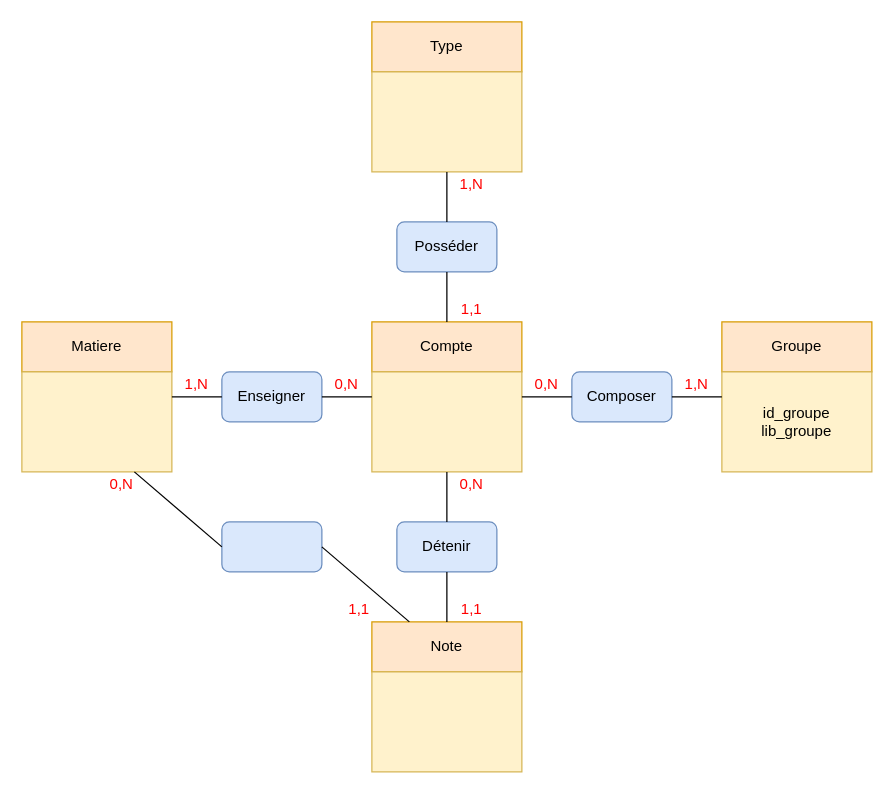
Some shapes in this 894 by 794 pixel diagram are drawn without their labels. The shapes that lost their labels are listed below. From the top down, each one's box as (x1, y1, x2, y2) in pixels, then its label:
(371, 71, 522, 172): id_type lib_type
(21, 371, 172, 472): id_matiere lib_matiere
(371, 371, 522, 472): id_compte login passwd nom prenom
(221, 521, 322, 572): Lier
(371, 671, 522, 772): id_note note description
